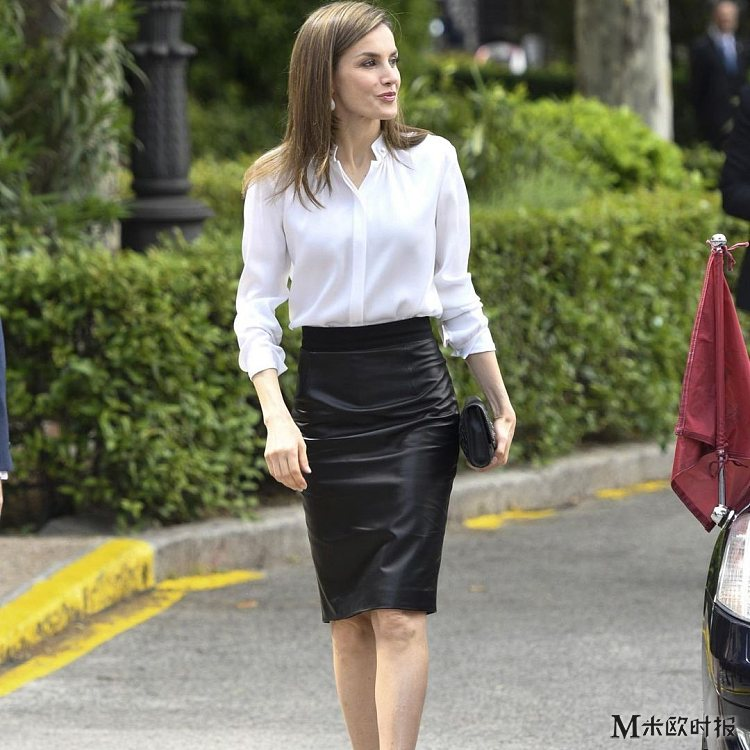F_shirt: (224, 139, 488, 327)
F_tailored skirt: (289, 322, 472, 644)
